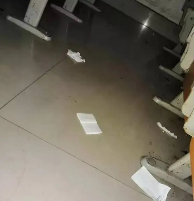garbage: (125, 165, 171, 201), (72, 107, 107, 142), (155, 117, 188, 143), (65, 43, 91, 68)
